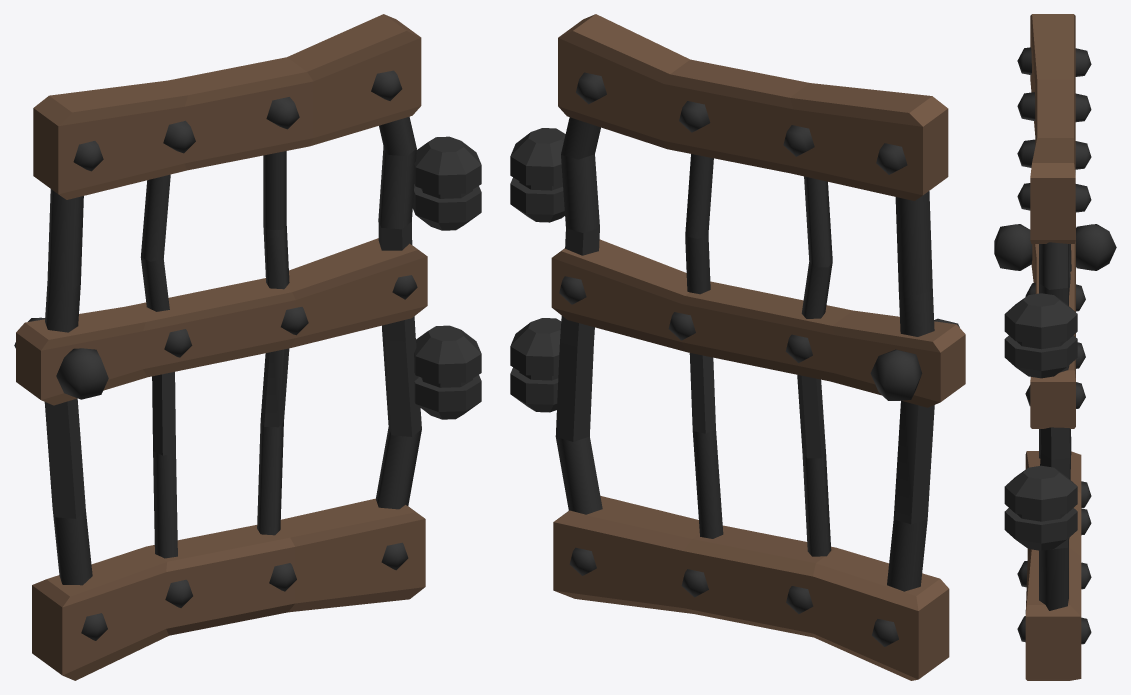
File: Pdoor.fbx
3 renders of one model, left to right at view 1: azimuth 30°, elevation 25°; view 2: azimuth 150°, elevation 25°; view 3: azimuth 270°, elevation 25°, orthographic. The views are drawn at different scales.
Visible parts, largest first — view 1: reinforcedDoor_Body.001; view 2: reinforcedDoor_Body.001; view 3: reinforcedDoor_Body.001.
Part boxes in pixels (<box>): reinforcedDoor_Body.001: <box>14,14,481,680</box>; reinforcedDoor_Body.001: <box>510,14,965,680</box>; reinforcedDoor_Body.001: <box>994,14,1116,680</box>.
Size of the model in its own units: 0.6697 by 0.8215 by 0.1761.
